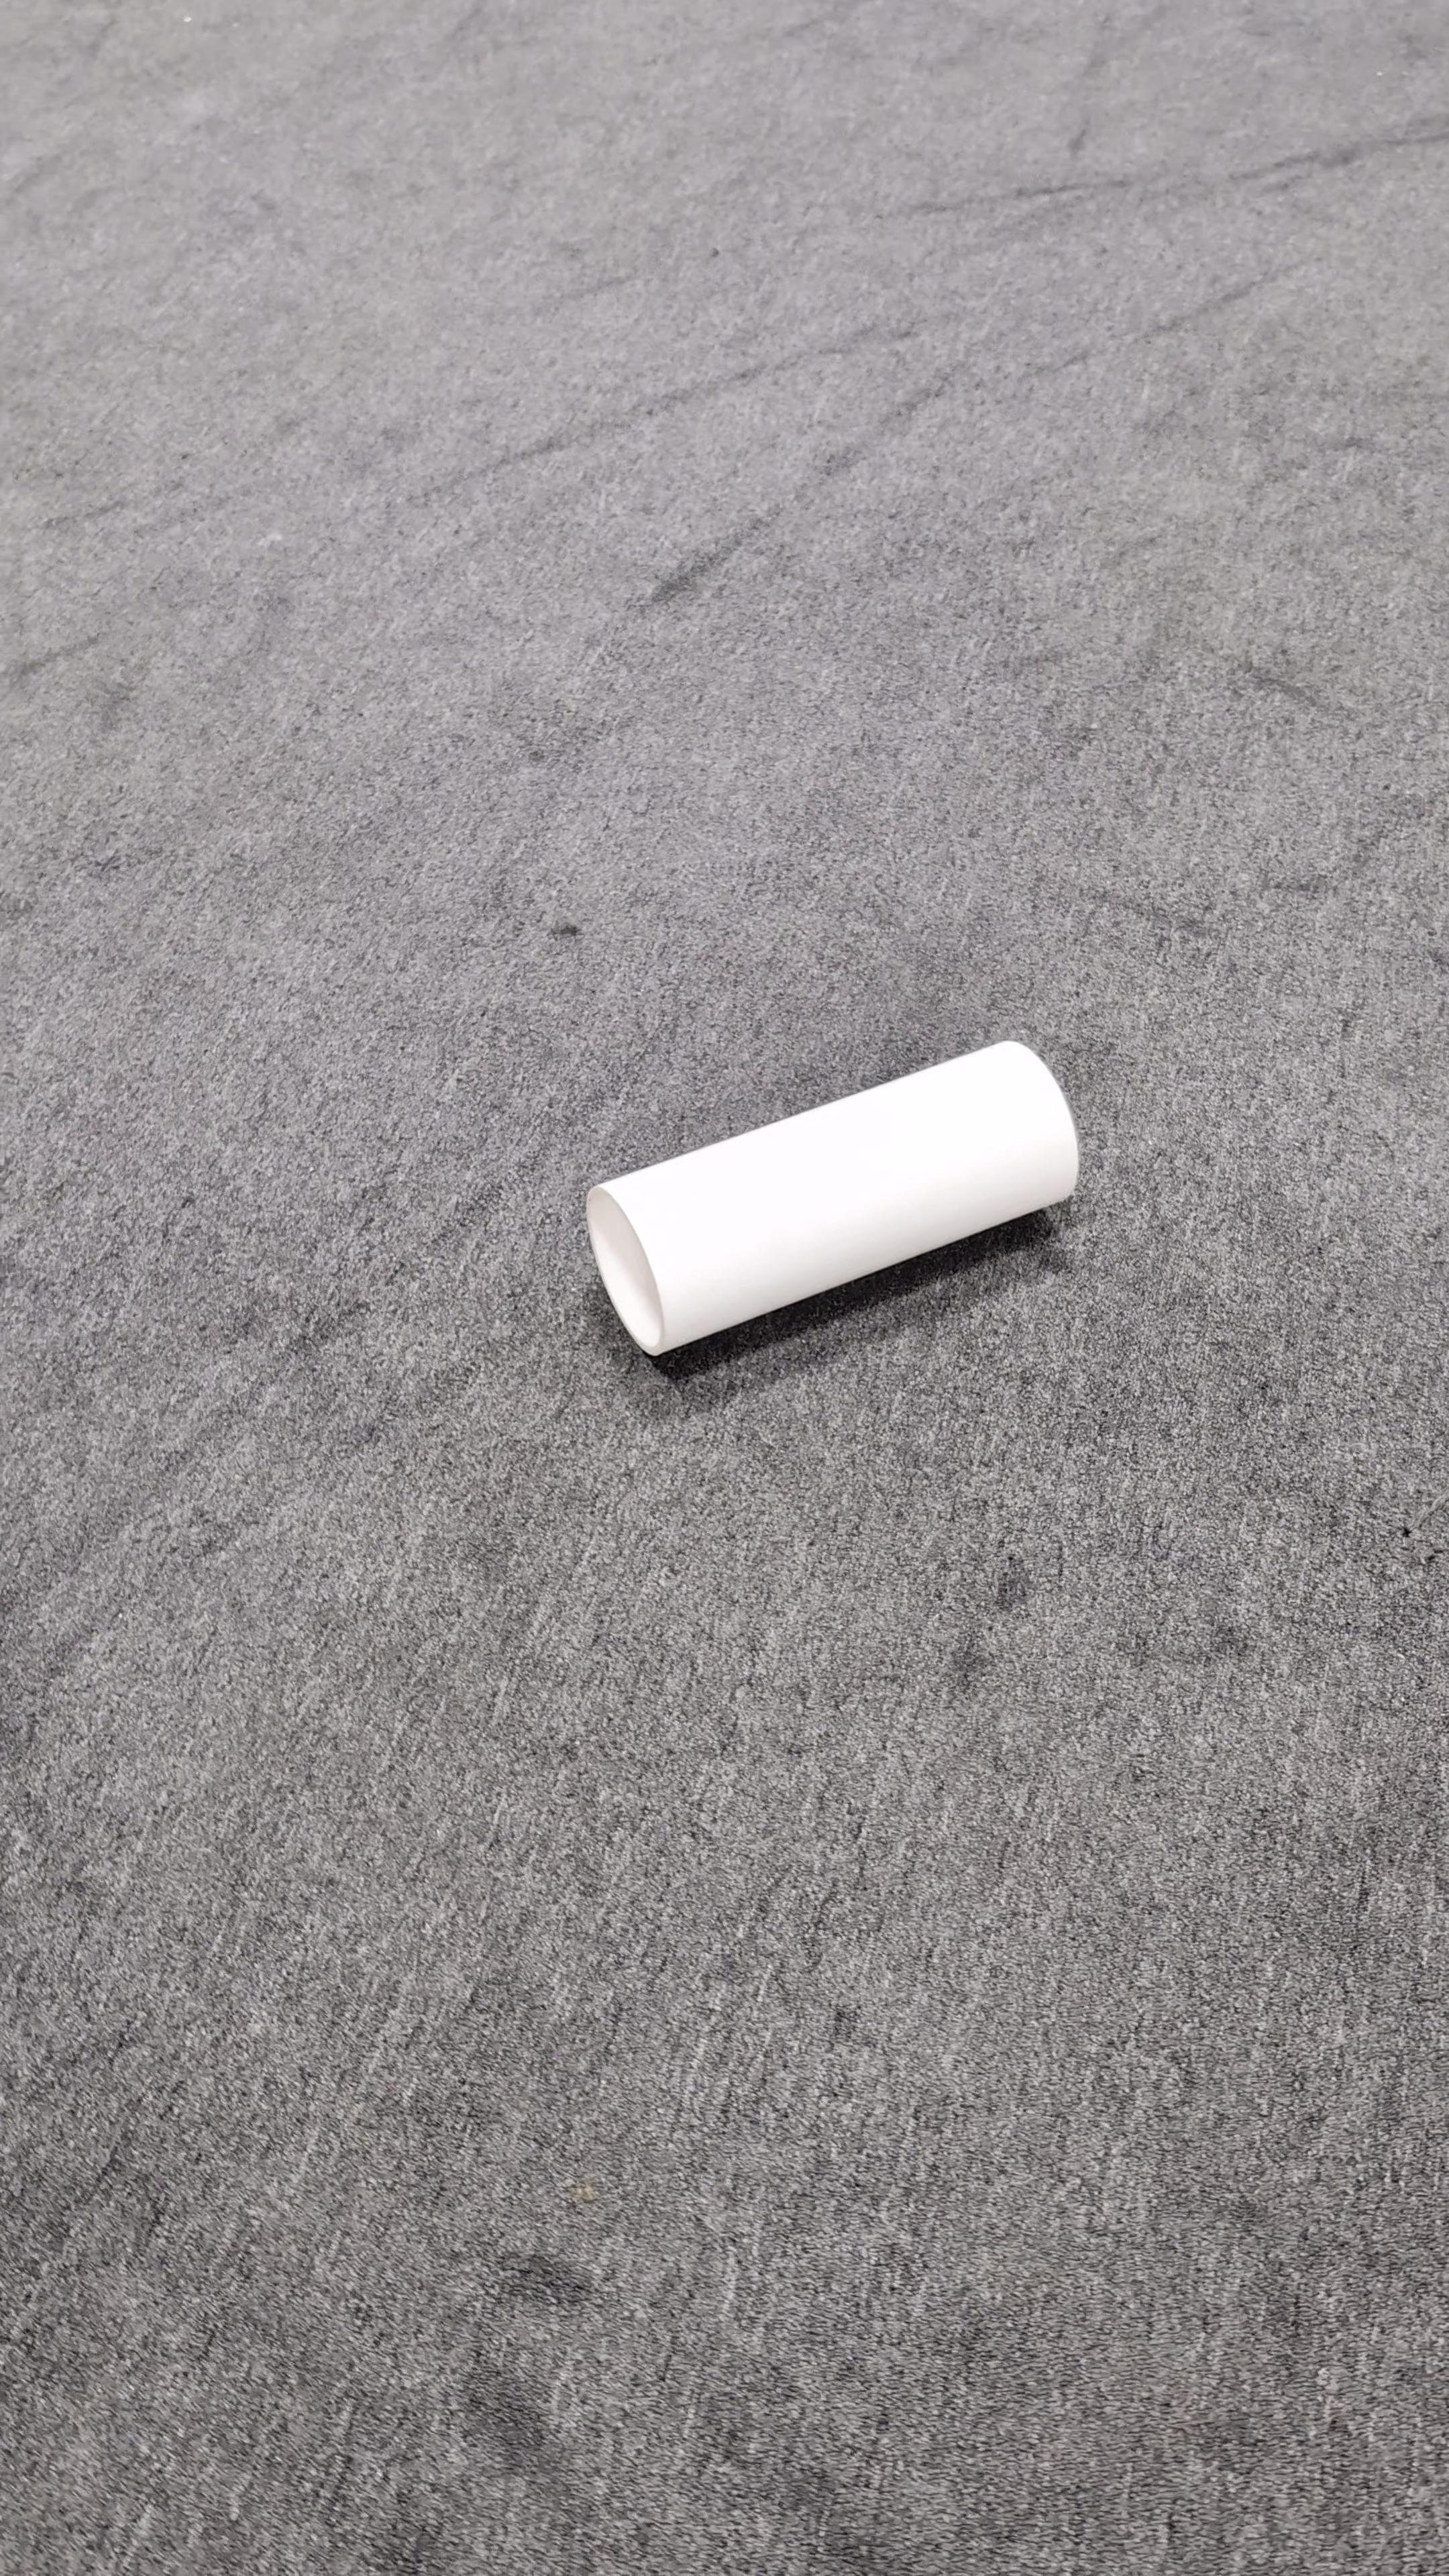coral: (587, 1033, 1083, 1359)
